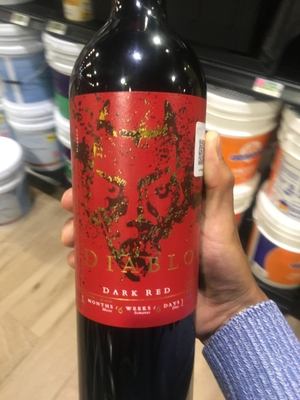diablo dark red: (67, 22, 209, 400)
